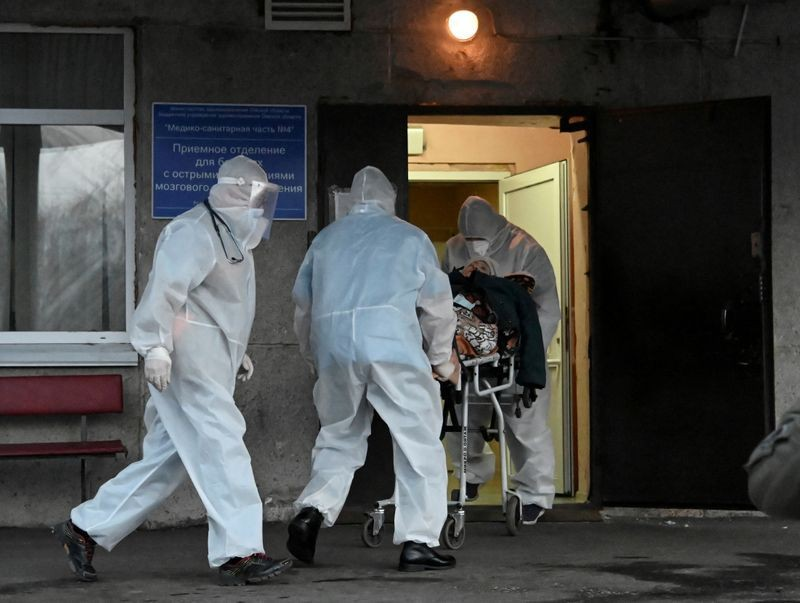Coverall: (65, 150, 275, 563), (288, 165, 456, 551), (443, 189, 564, 517)
Face_Shield: (243, 174, 282, 245)
Gloves: (141, 347, 175, 394), (235, 353, 255, 383)
with_mask: (462, 237, 490, 261), (250, 196, 271, 225)
